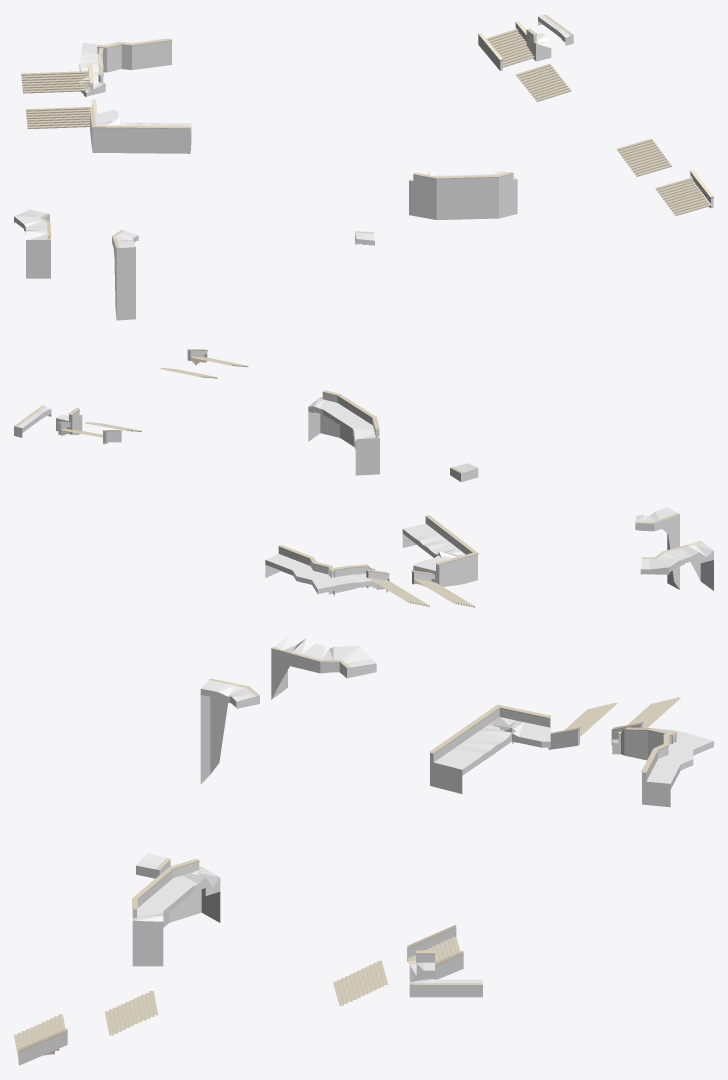
Rendered from SM_BM_BC_Works_1_1.glb.
3 views of the same model, one above another, from view 1: azimuth 30°, elevation 25°; view 2: azimuth 150°, elevation 25°; view 3: azimuth 270°, elevation 25° (orthographic). The views are drawn at different scales.
Parts seen in each view (by area): view 1: SM_BM_BC_Works_1_1; view 2: SM_BM_BC_Works_1_1; view 3: SM_BM_BC_Works_1_1.
Boxes of the visible parts, <box> form: SM_BM_BC_Works_1_1: <box>14,14,713,320</box>; SM_BM_BC_Works_1_1: <box>14,349,713,607</box>; SM_BM_BC_Works_1_1: <box>14,636,713,1065</box>.
Bounding box in the file's own units: 80.85 × 14.15 × 62.13.
